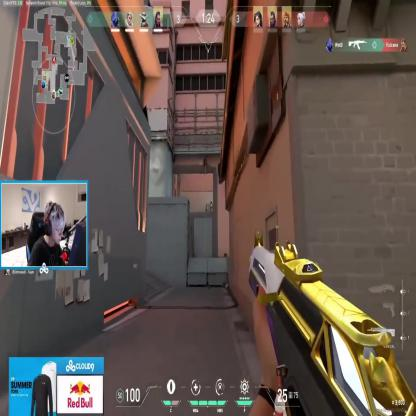enemy: (210, 200, 212, 214)
enemy_head: (210, 200, 212, 203)
